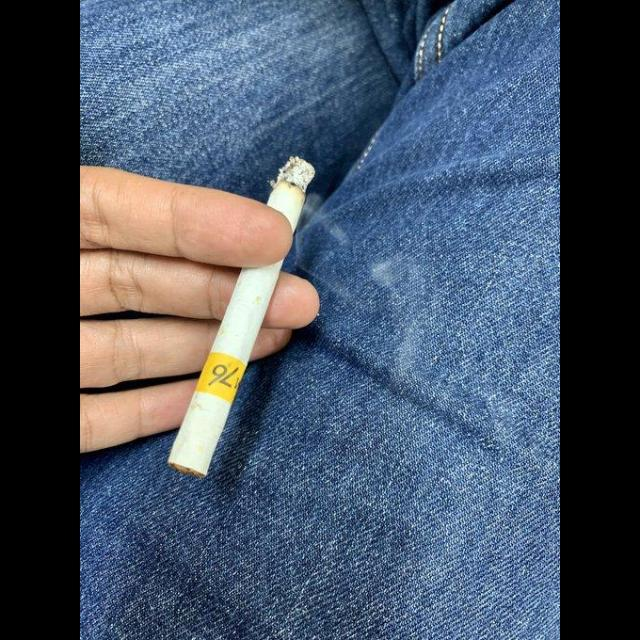rokok: (158, 148, 314, 486)
